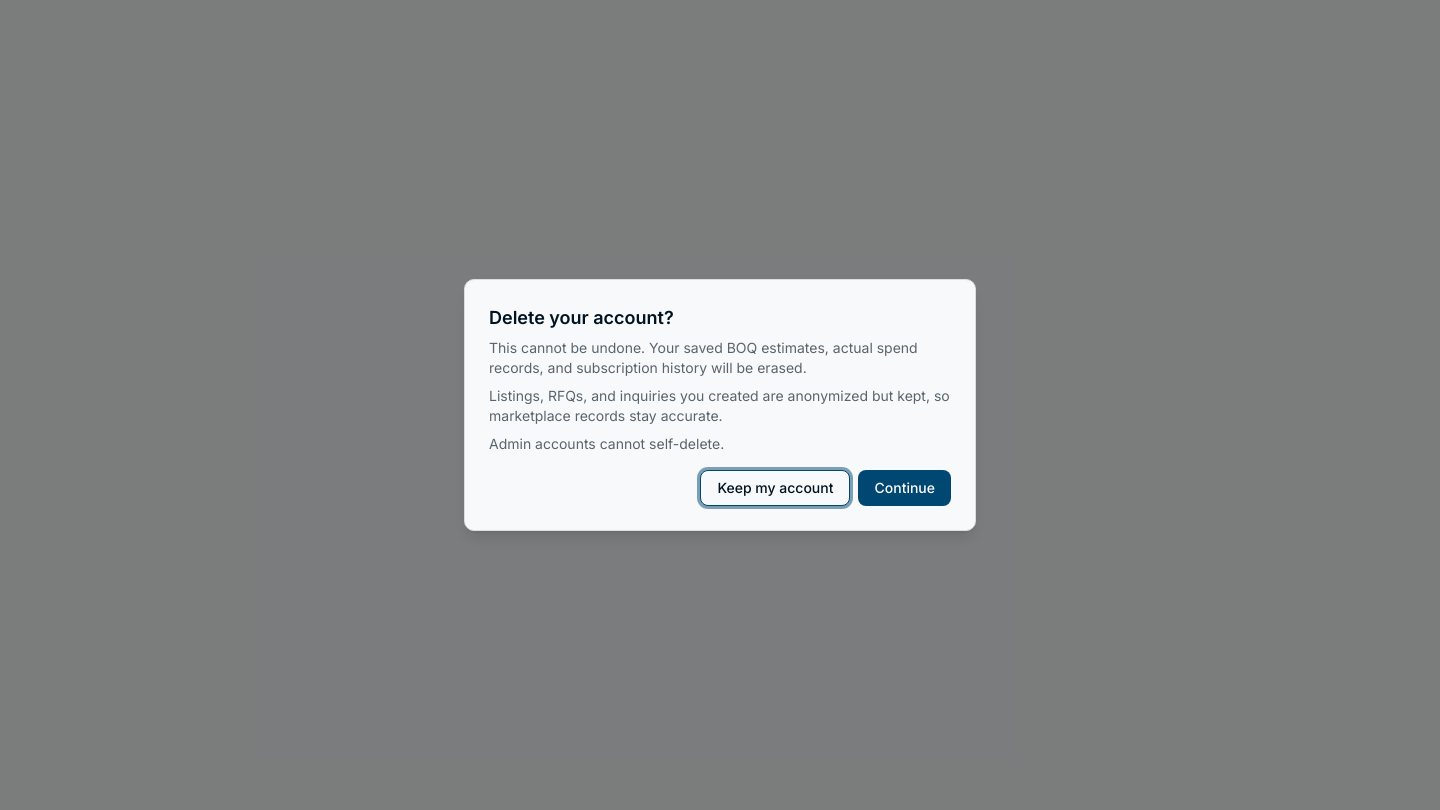
Test case: DeleteAccountDialog (DOM) › step 1 warns about irreversible deletion and anonymization, Continue arms step 2
Check: the heading "Delete your account?" is shown, box [489,304,674,332]
Check: the text "cannot be undone" is shown, box [489,339,918,376]
Click the button "Continue" at coordinates (905, 488), box [858,470,951,506]
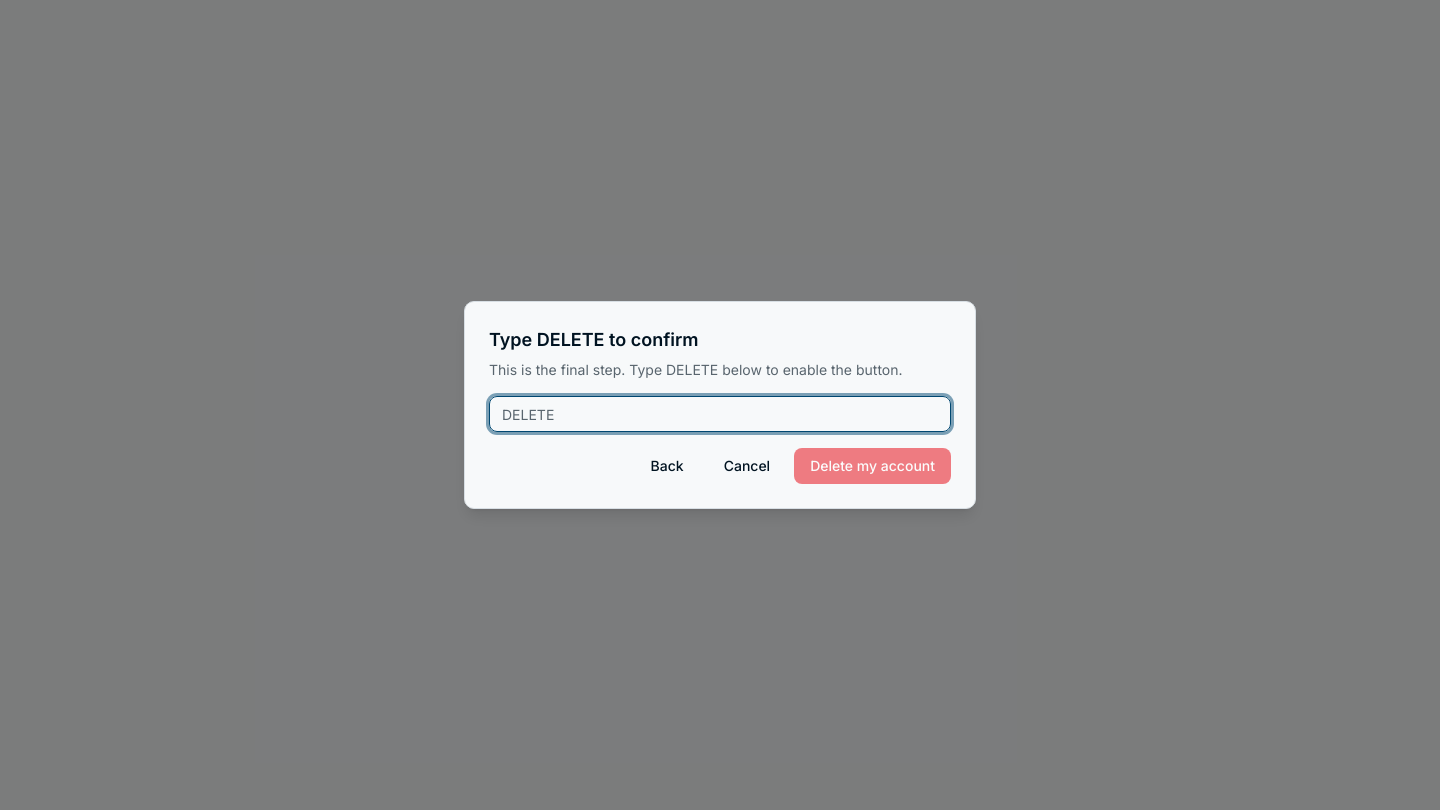
Check: the heading "Type DELETE to confirm" is shown, box [489,326,698,354]
Check: the field with placeholder "DELETE" is shown, box [489,396,951,432]
